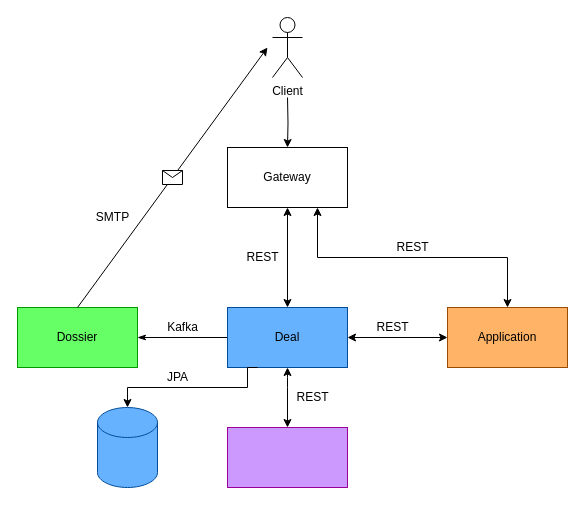
The diagram is 585 pixels wide and 505 high, and some of its shapes have lost their labels. The shapes that lost their labels are listed below. From the top down, each one's centre as x and y in pixels, then its label:
the point at 127,447: db
the point at 287,457: Credit Conveyor
